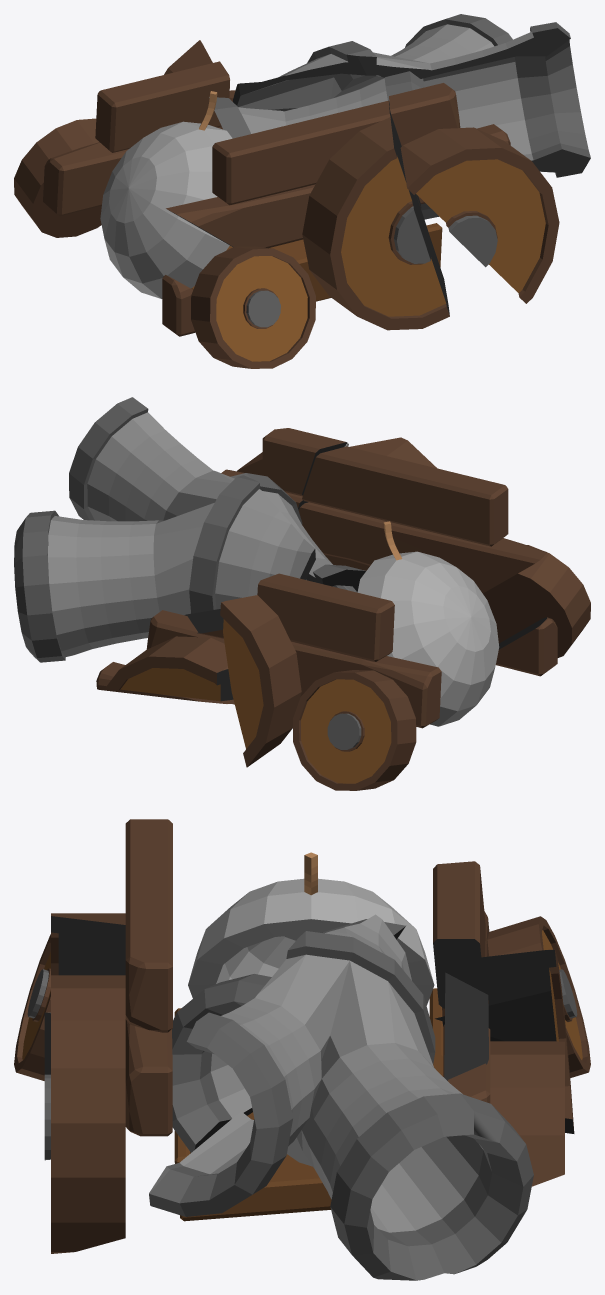
Rendered from CannonDobleBroken.fbx.
3 views of the same model, one above another, from view 1: azimuth 30°, elevation 25°; view 2: azimuth 150°, elevation 25°; view 3: azimuth 270°, elevation 25° (orthographic). The views are drawn at different scales.
Visible parts, largest first — view 1: CannonBroken; view 2: CannonBroken; view 3: CannonBroken.
Part boxes in pixels (bbox=[...]): CannonBroken: bbox=[14, 14, 590, 368]; CannonBroken: bbox=[14, 397, 590, 790]; CannonBroken: bbox=[14, 819, 590, 1280].
Size of the model in its own units: 558 by 259 by 468.
